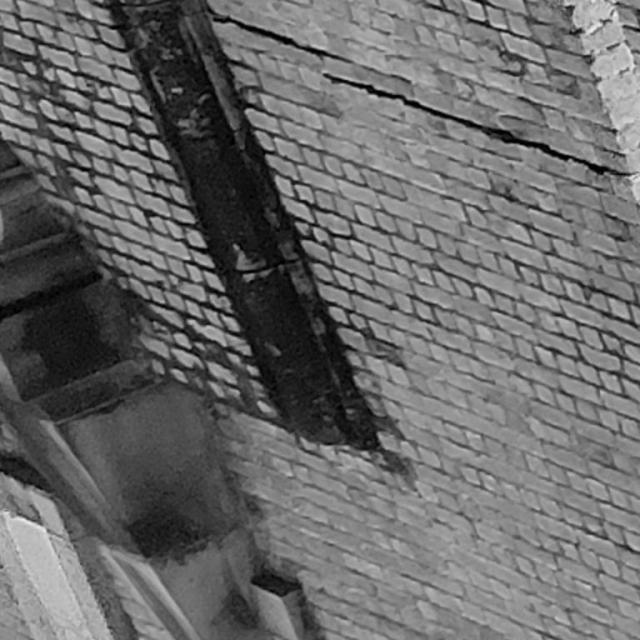crack: (322, 74, 628, 178), (213, 11, 354, 63)
